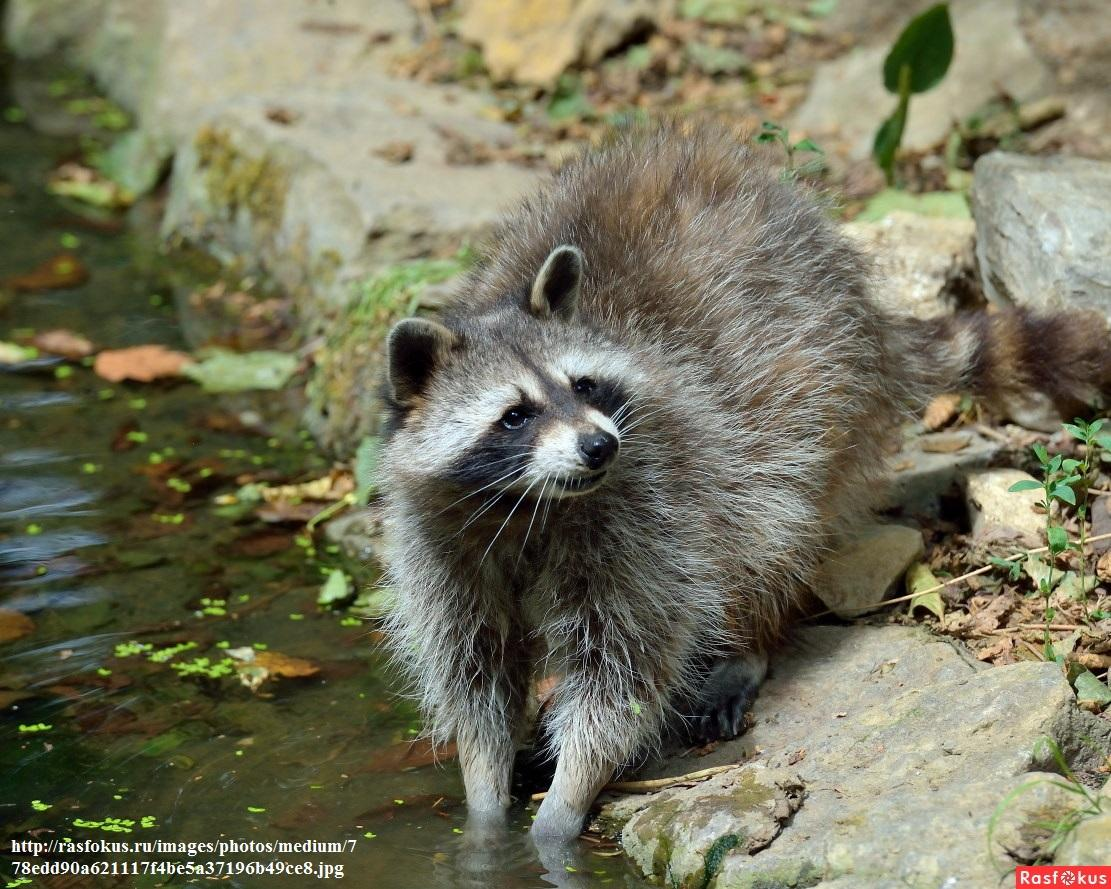raccoon: (379, 126, 1111, 857)
